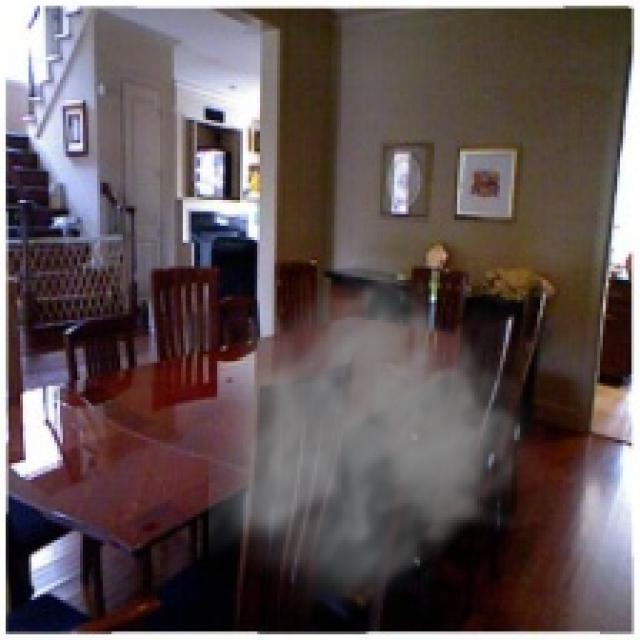smoke: (209, 257, 560, 620)
